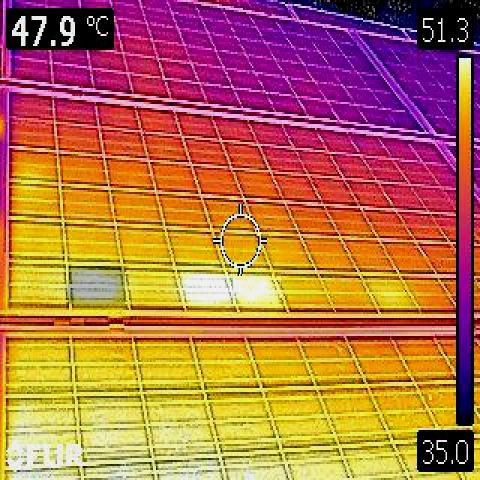fault: (68, 266, 125, 304), (180, 272, 232, 305), (234, 274, 282, 306)
